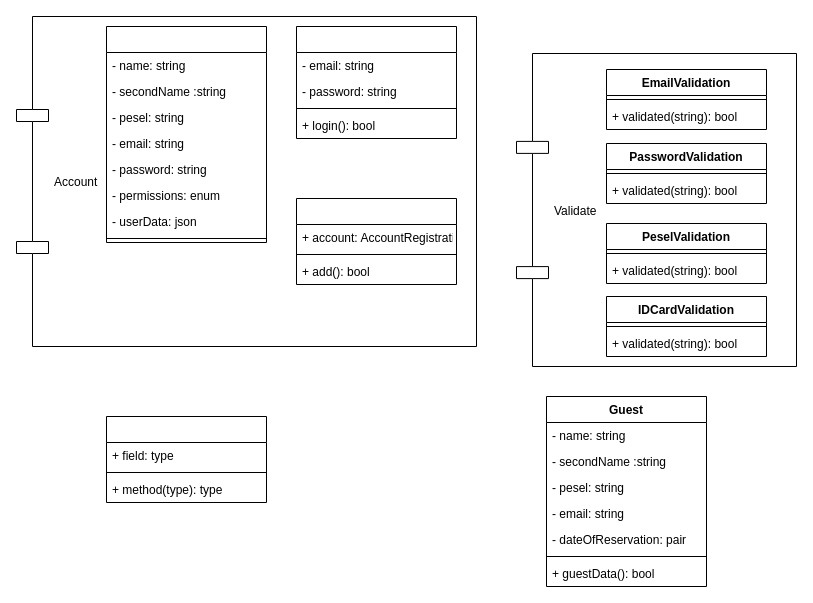
The diagram is 813 pixels wide and 603 high, and some of its shapes have lost their labels. The box of each missing label's shape, as (x1, y1, x2, y2) in pixels:
AccountLogin: (296, 26, 456, 138)
AccountRegistration: (106, 26, 266, 242)
AddAccount: (296, 198, 456, 284)
Booking: (106, 416, 266, 502)
